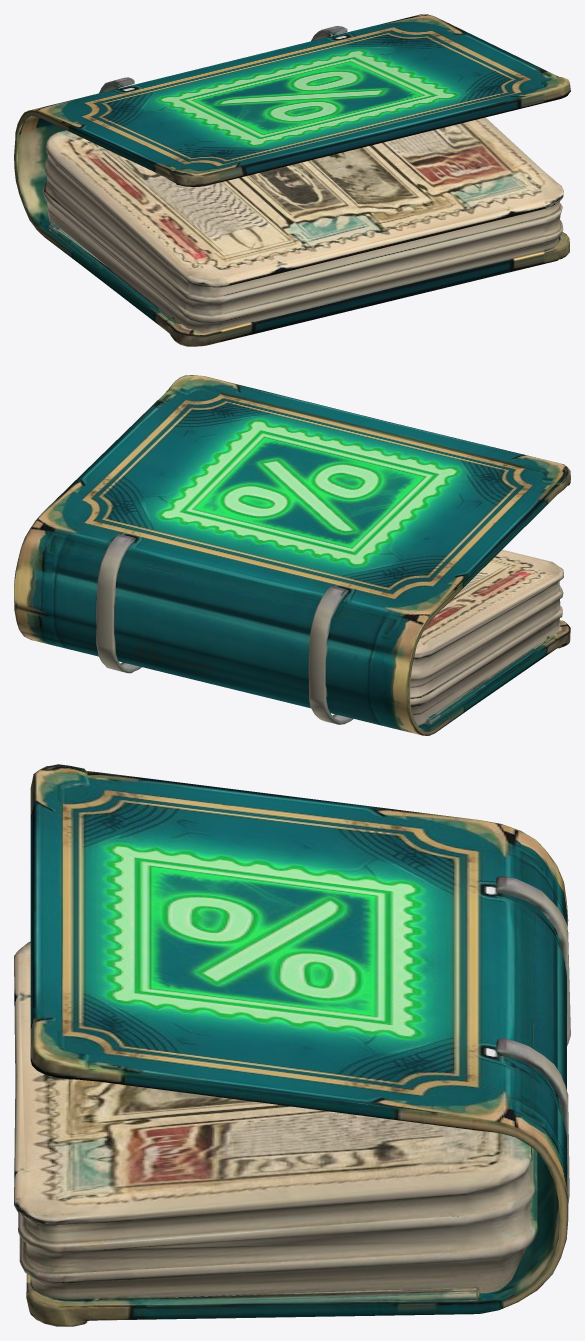
The model's file is cash_discount.glb.
3 renders of one model, top to bottom at view 1: azimuth 30°, elevation 25°; view 2: azimuth 150°, elevation 25°; view 3: azimuth 270°, elevation 25°, orthographic. The views are drawn at different scales.
Size of the model in its own units: 1 by 0.418 by 0.7852.
Materials: 1 (1 with a texture image).
